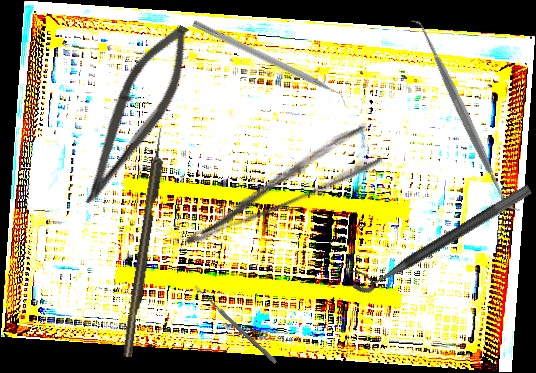Chopper: (188, 19, 352, 111)
Dressing Forceps: (168, 122, 385, 251)
Fixation Ring: (344, 169, 534, 299)
Hook Surgical: (121, 127, 169, 358)
Micro Scissor: (70, 13, 204, 218)
Spatula Surgical: (408, 12, 522, 220)
Surgical Spoon: (193, 284, 278, 365)
